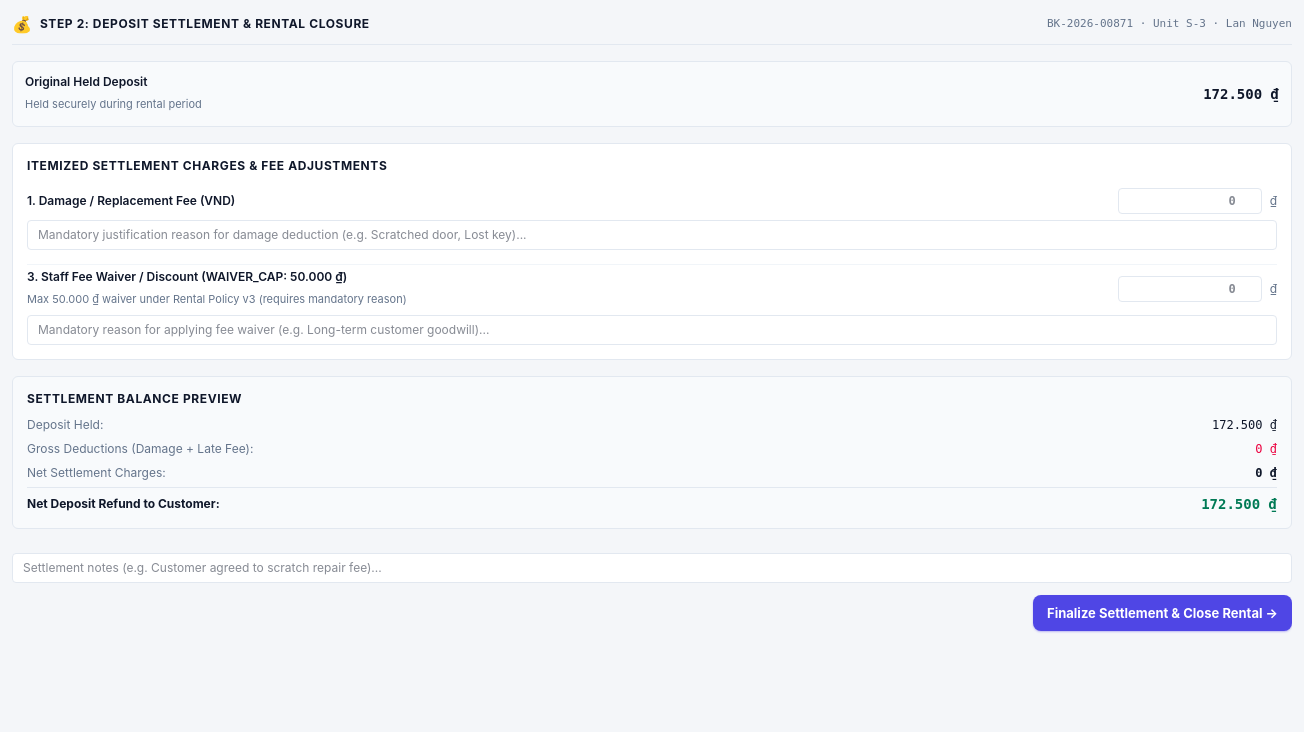
it: Story 6.3: Settlement Charge, Preview, Extra Fee, and Rental Closure › finalizes settlement and renders immutable receipt card with receipt code
Type "40000" into the number field with test id "input-damage-fee" at (1190, 201), box [1118,188,1262,214]
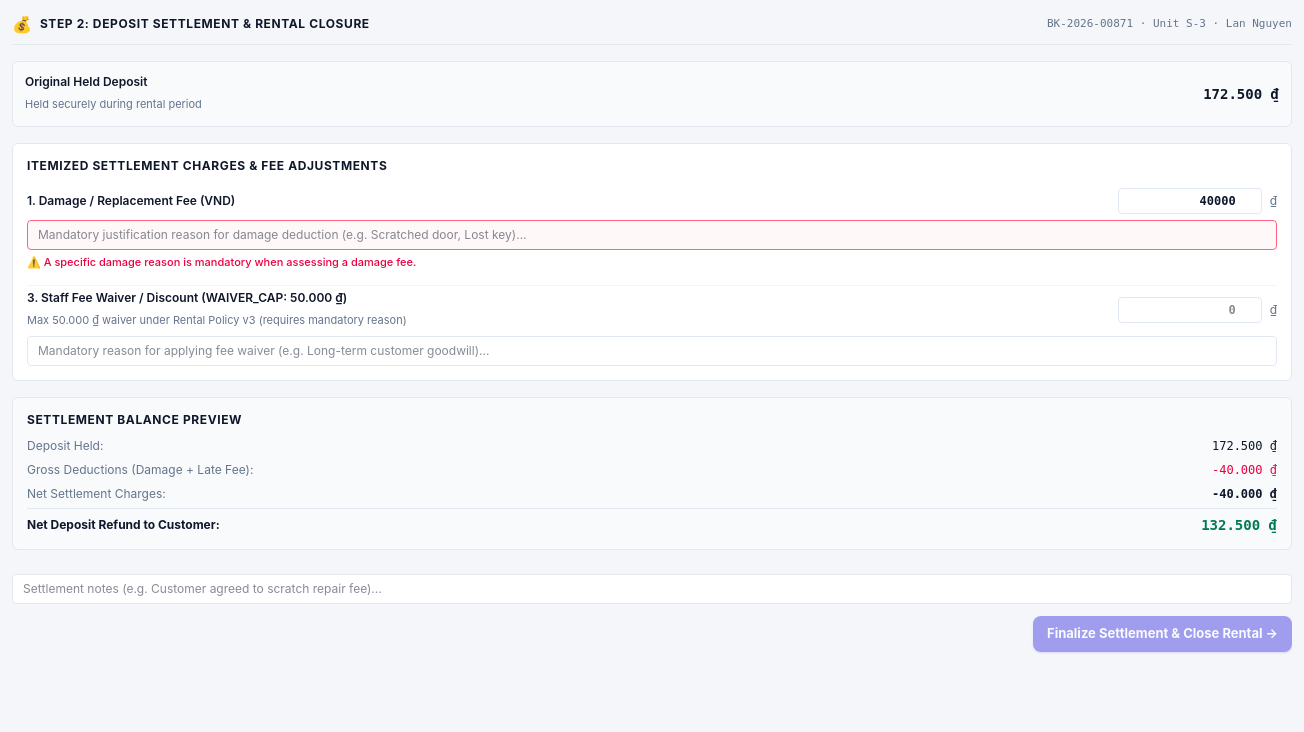
Replace the text in the field with test id "input-damage-reason" with "Scratched wall paint and missing key fob" at (652, 235), box [27,220,1277,250]
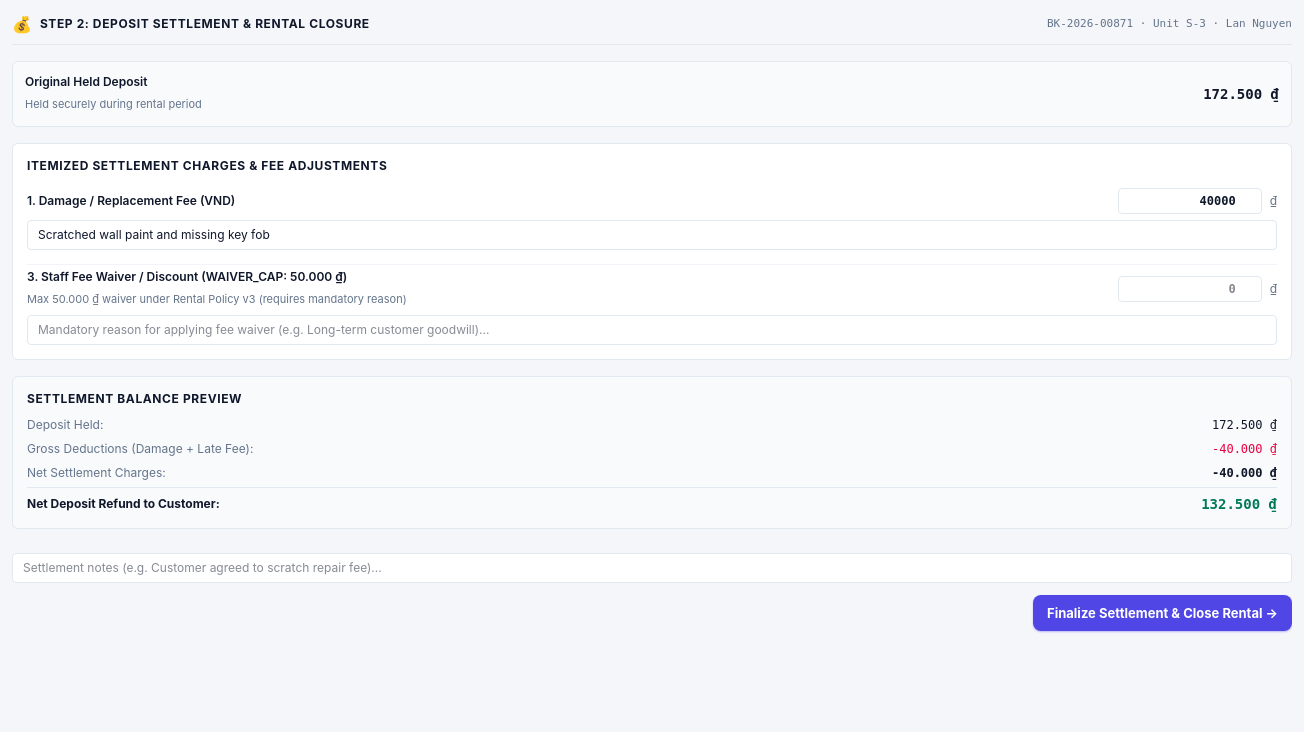
Expected: the button with test id "btn-finalize-settlement" is enabled
Click the button with test id "btn-finalize-settlement" at (1162, 613), box [1033,595,1292,631]
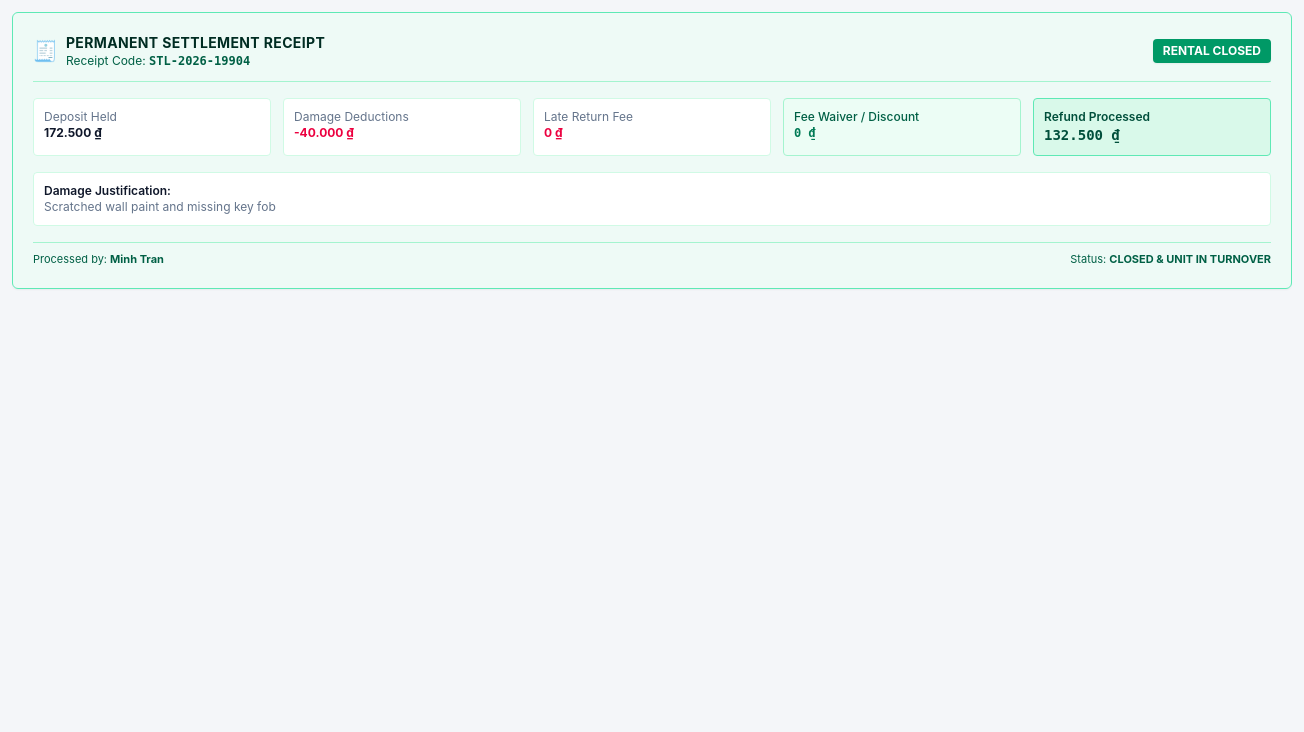
Expected: the text with test id "receipt-final-amount" reads "132.500 ₫", [1044,127,1120,143]
Expected: the element with test id "settlement-receipt-card" is shown, [12,12,1292,288]
Expected: the text with test id "receipt-code" shows "STL-2026-", [149,54,250,68]
